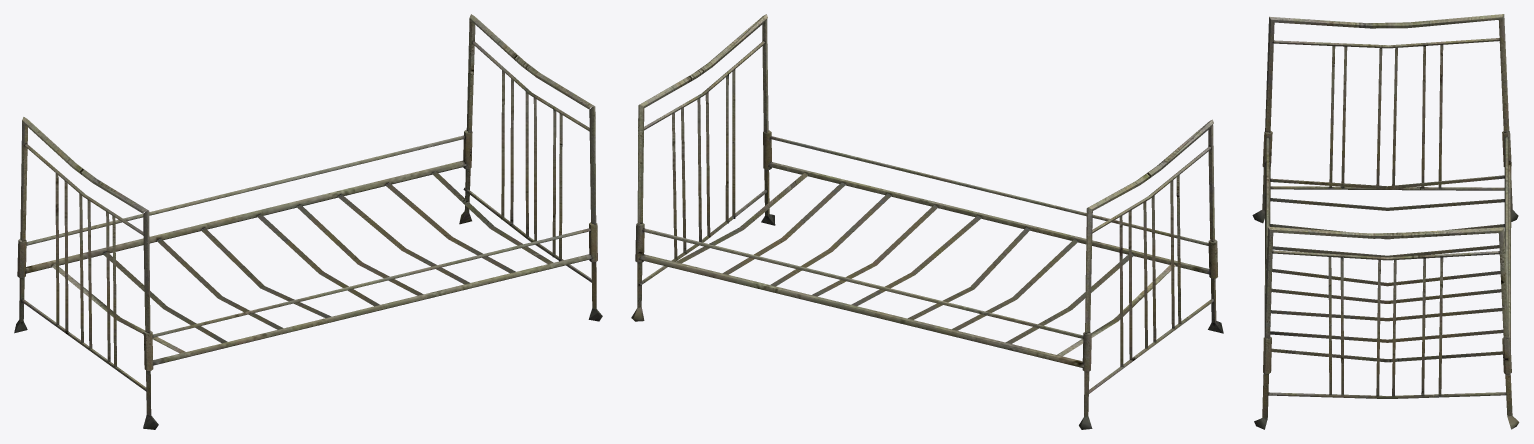
File: furniturebed001a.glb
The picture shows the model from 3 angles, left to right: view 1: azimuth 30°, elevation 25°; view 2: azimuth 150°, elevation 25°; view 3: azimuth 270°, elevation 25°; orthographic projection. The views are drawn at different scales.
Visible parts, largest first — view 1: 0_FurnitureBed001a; view 2: 0_FurnitureBed001a; view 3: 0_FurnitureBed001a.
Part boxes in pixels (x1,y1,x2,y2): 0_FurnitureBed001a: [14, 14, 602, 429]; 0_FurnitureBed001a: [631, 14, 1223, 429]; 0_FurnitureBed001a: [1252, 14, 1519, 429].
Size of the model in its own units: 2.04 by 0.9212 by 1.08.
Materials: 1 (1 with a texture image).
